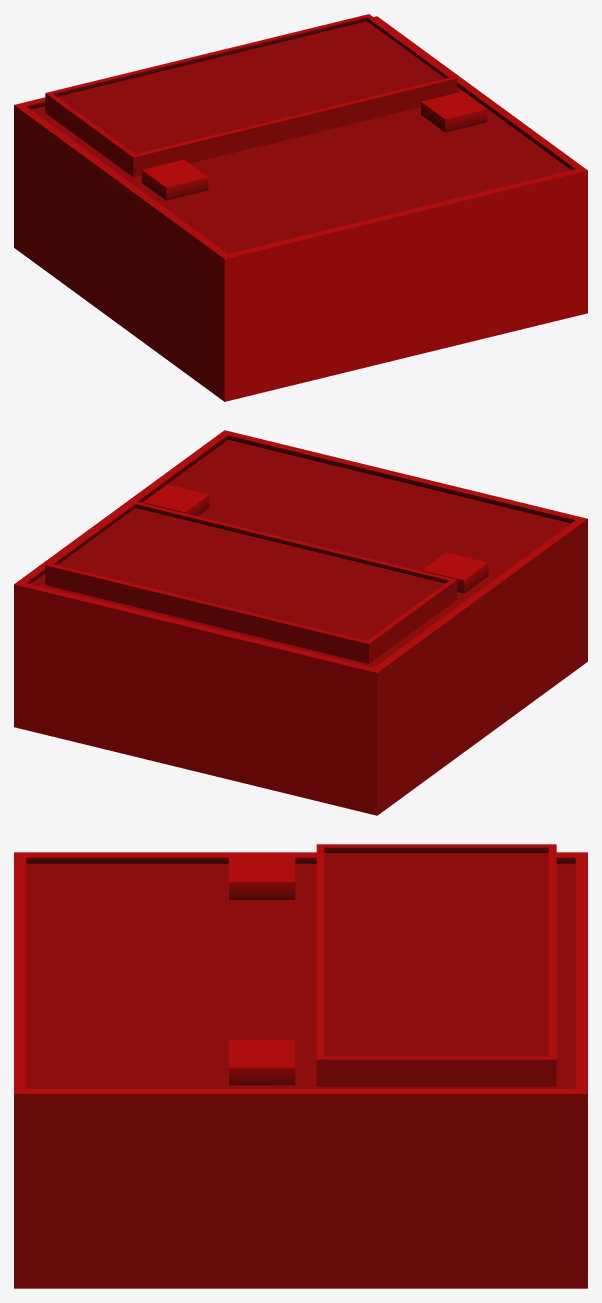
Rendered from buildings-industrial-smallindustrialstructure_v8.fbx.
3 renders of one model, top to bottom at view 1: azimuth 30°, elevation 25°; view 2: azimuth 150°, elevation 25°; view 3: azimuth 270°, elevation 25°, orthographic. The views are drawn at different scales.
Parts seen in each view (by area): view 1: SmallIndustrialStructure_v8; view 2: SmallIndustrialStructure_v8; view 3: SmallIndustrialStructure_v8.
Boxes of the visible parts, x1,y1,x2,y2 form: SmallIndustrialStructure_v8: (14, 14, 587, 401); SmallIndustrialStructure_v8: (14, 430, 587, 815); SmallIndustrialStructure_v8: (14, 844, 587, 1288).
Size of the model in its own units: 10.78 by 4.49 by 10.83.
